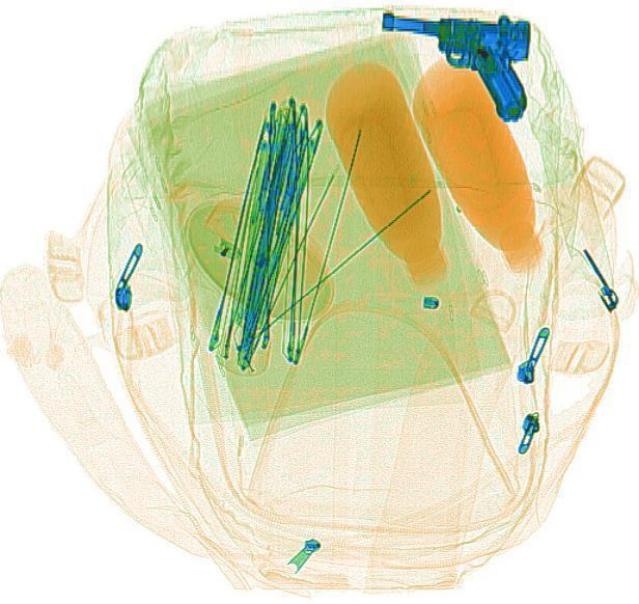Gun: (373, 7, 531, 120)
